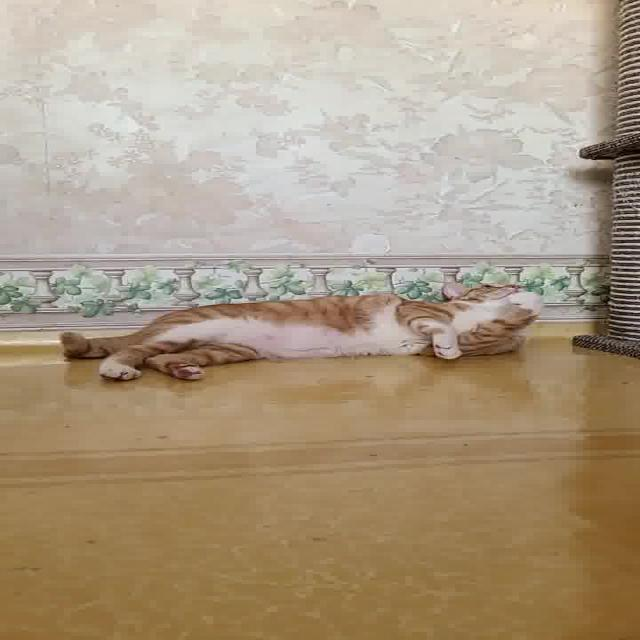cat: (37, 268, 570, 392)
